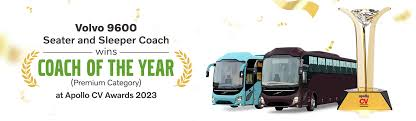bus: (260, 47, 356, 112), (206, 52, 265, 108)
